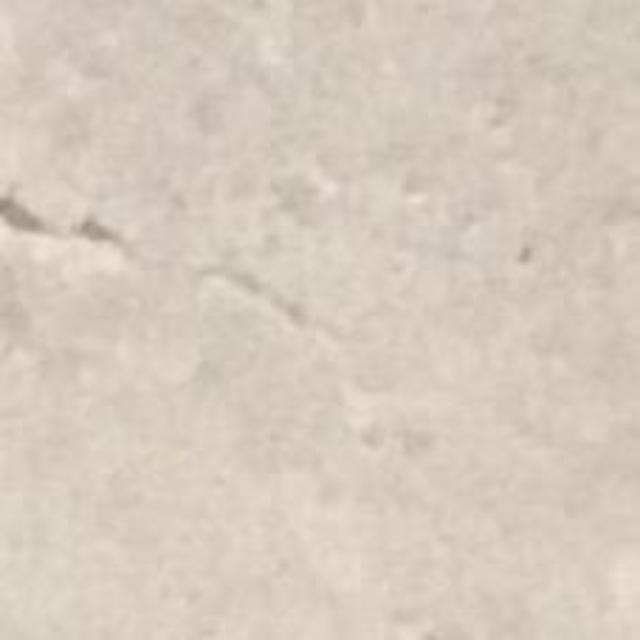crack: (0, 189, 132, 256)
